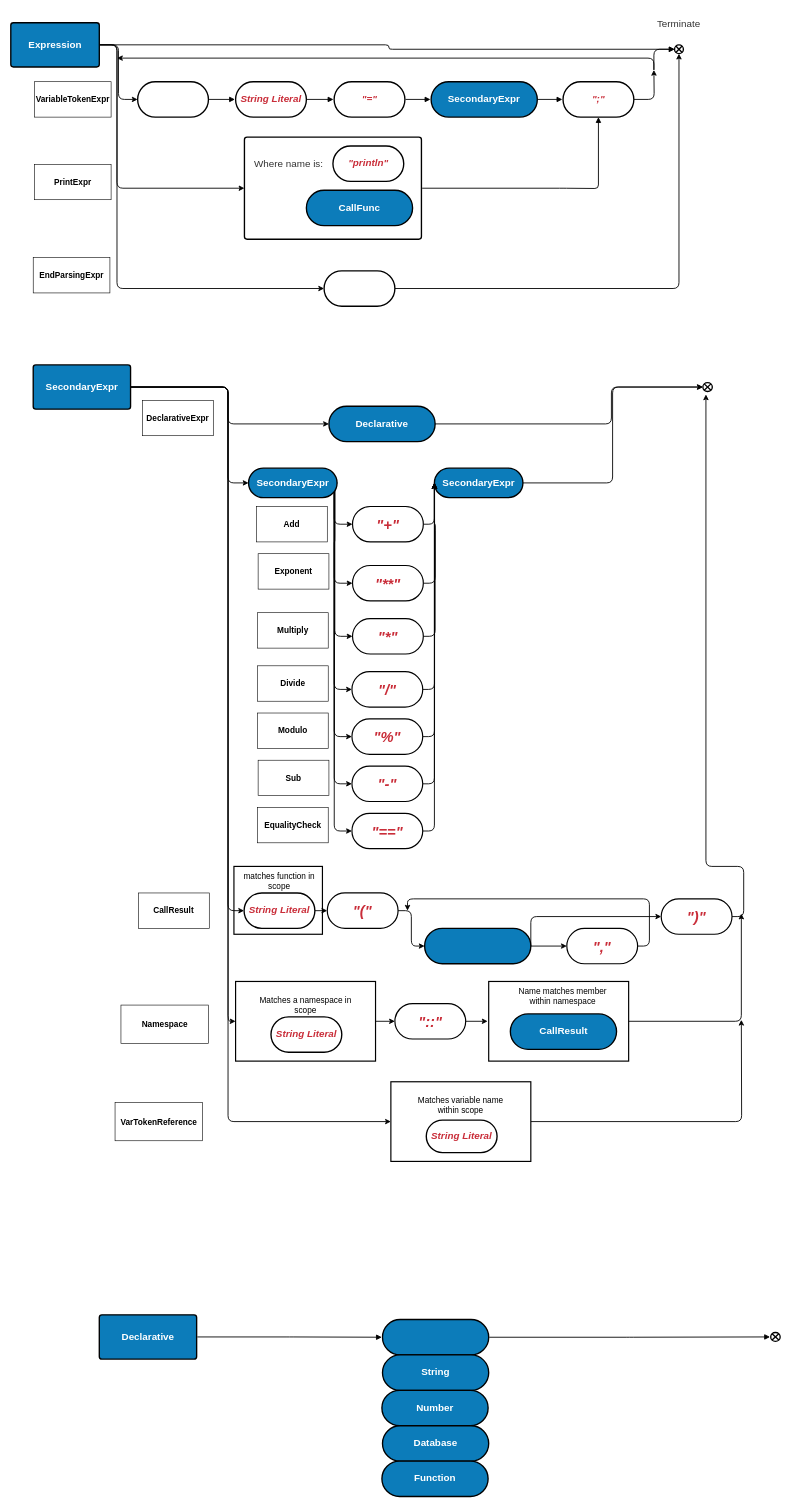
Image size: 791x1507. Some labels were removed from this diagram. Each missing label, with the centre of its shape:
"Let": (173,99)
Boolean: (435,1337)
FILE EOF: (359,288)
SecondaryExpression: (477,945)
